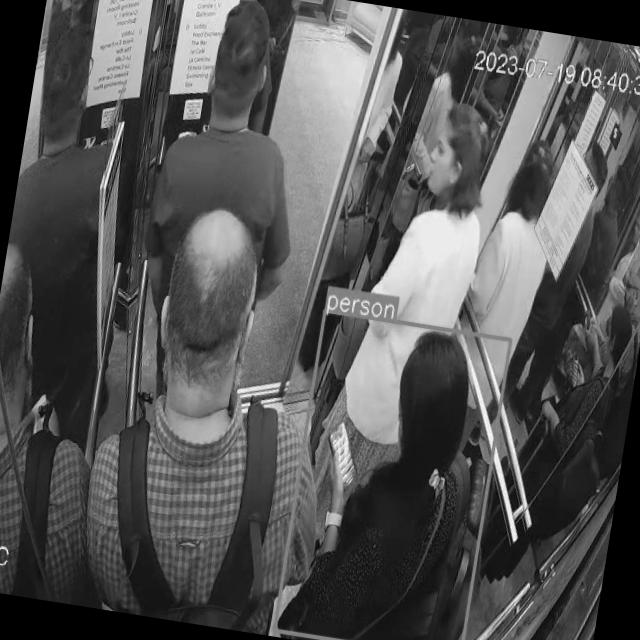person: (74, 206, 364, 640), (117, 0, 320, 436), (275, 312, 515, 640), (330, 109, 507, 513), (0, 34, 155, 448), (0, 243, 129, 605), (489, 282, 640, 584), (588, 257, 640, 488)
